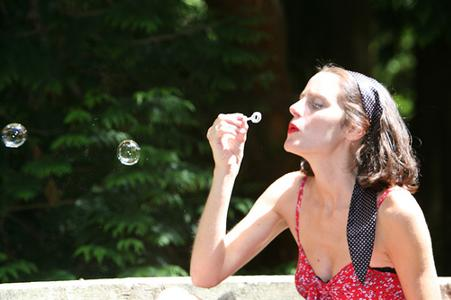person: (190, 68, 441, 298)
